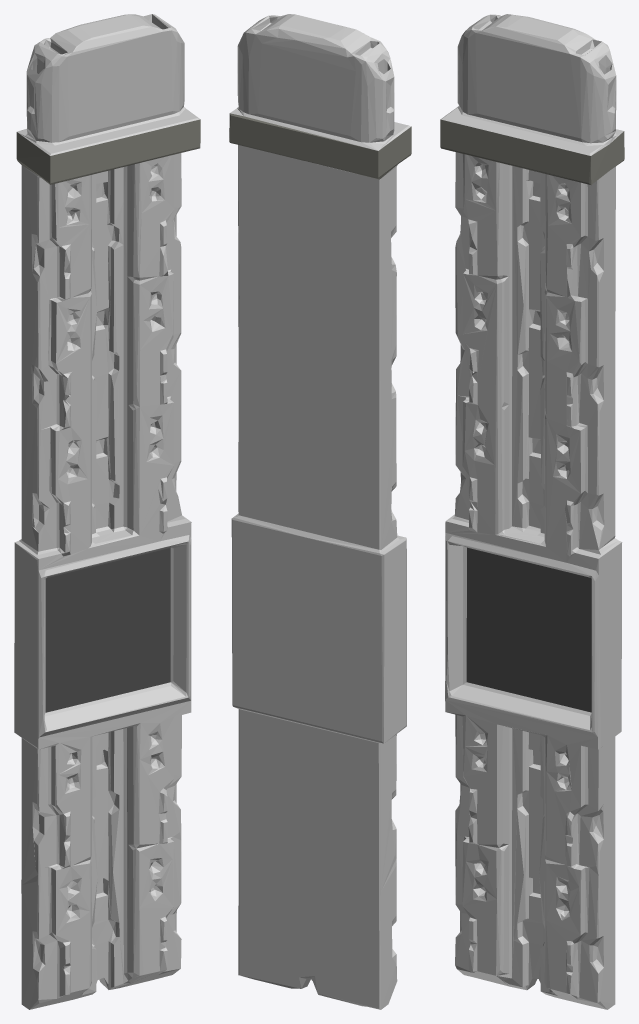
File: column_industrial.fbx
3 renders of one model, left to right at view 1: azimuth 30°, elevation 25°; view 2: azimuth 150°, elevation 25°; view 3: azimuth 330°, elevation 25°, orthographic.
Parts seen in each view (by area): view 1: column_industrial; view 2: column_industrial; view 3: column_industrial.
Part boxes in pixels (x1=…): column_industrial: x1=14, y1=14, x2=200, y2=1009; column_industrial: x1=229, y1=14, x2=411, y2=1009; column_industrial: x1=440, y1=14, x2=624, y2=1009.
Size of the model in its own units: 101 by 593 by 37.4.
